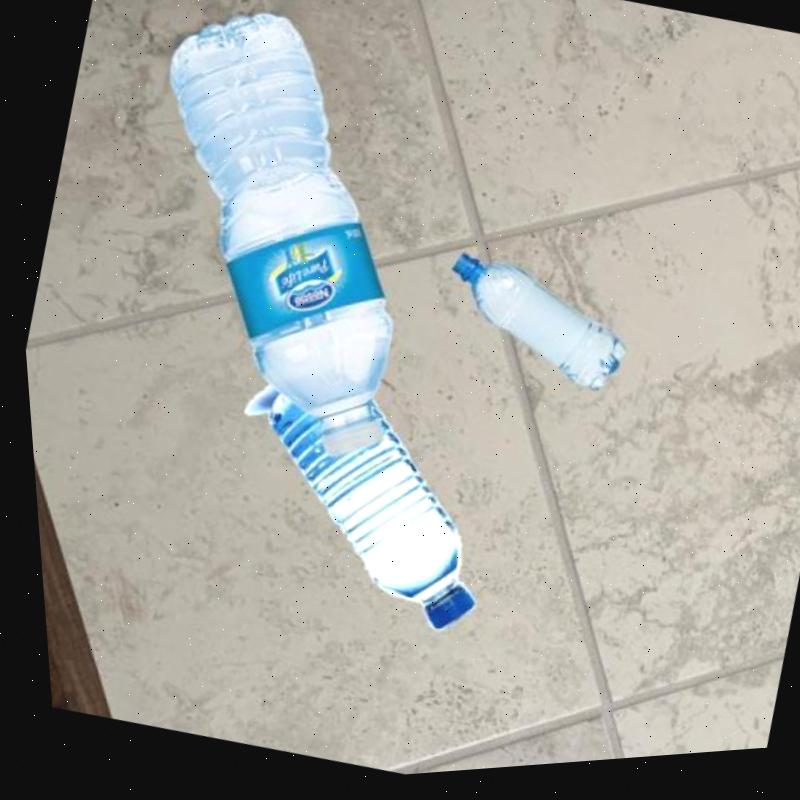botella: (72, 0, 476, 486), (207, 360, 518, 661), (422, 246, 638, 413)
